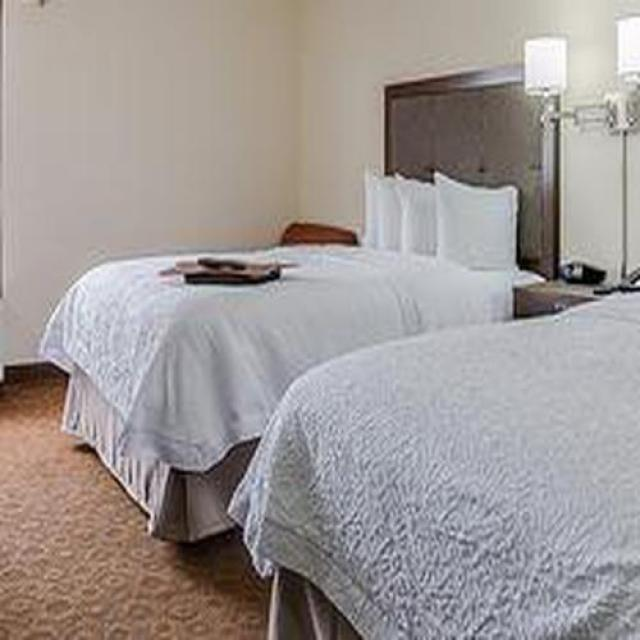bed: (36, 69, 558, 545)
